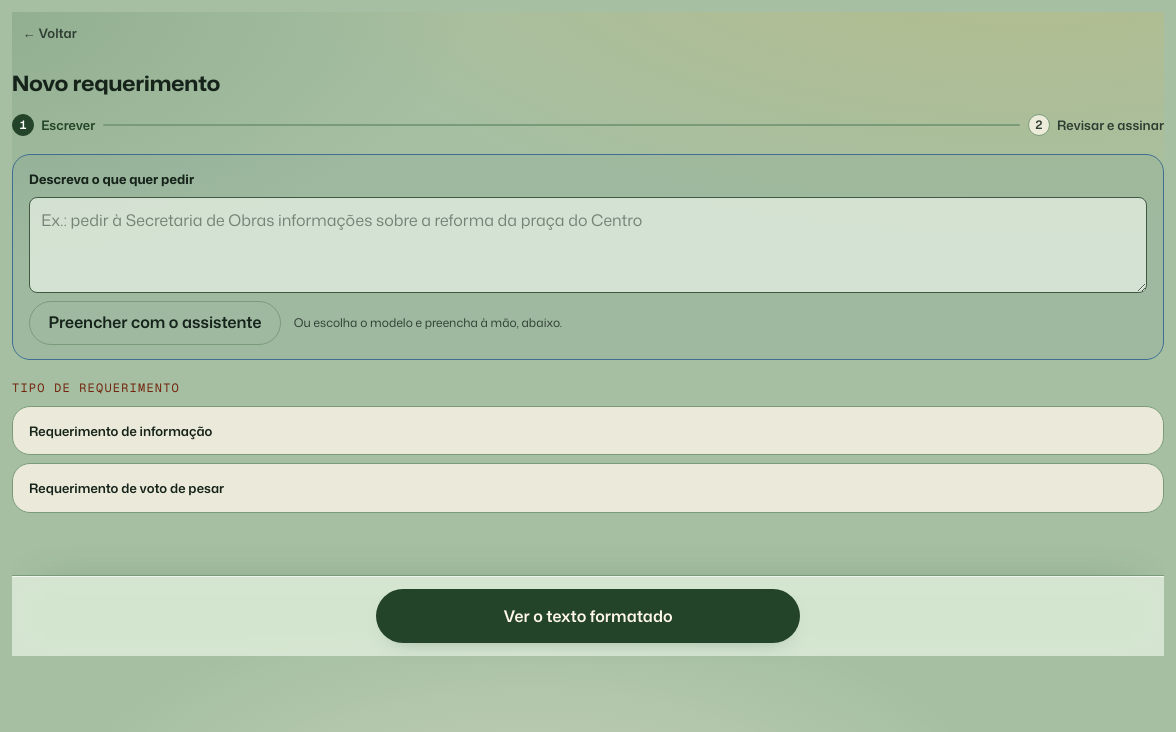
it: Novo requerimento — o copiloto (B.7) › assistente fora: a mensagem manda preencher à mão, nada é tocado
This screenshot has width=1176, height=732.
Step 1. Replace the text in the text box labelled "Descreva o que quer pedir" with "pedir informações da obra" → (588,245), box [29,197,1147,293]
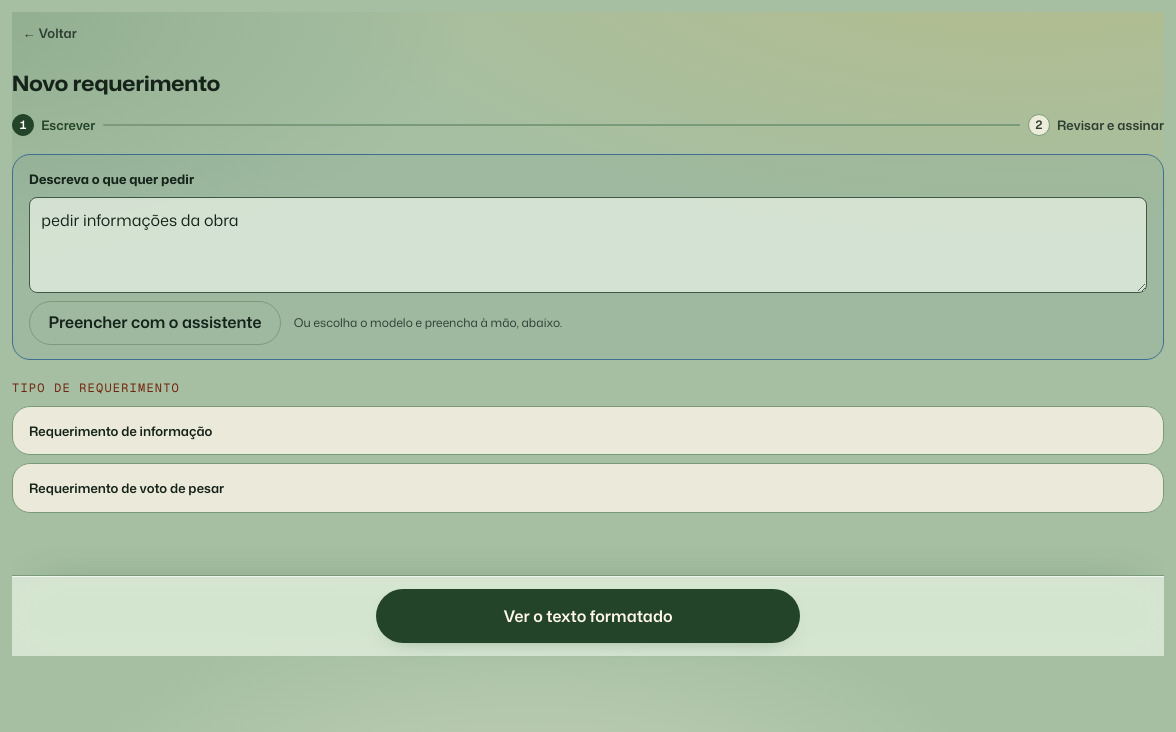
Step 2. Click the button "Preencher com o assistente" → (155,323), box [29,301,281,345]
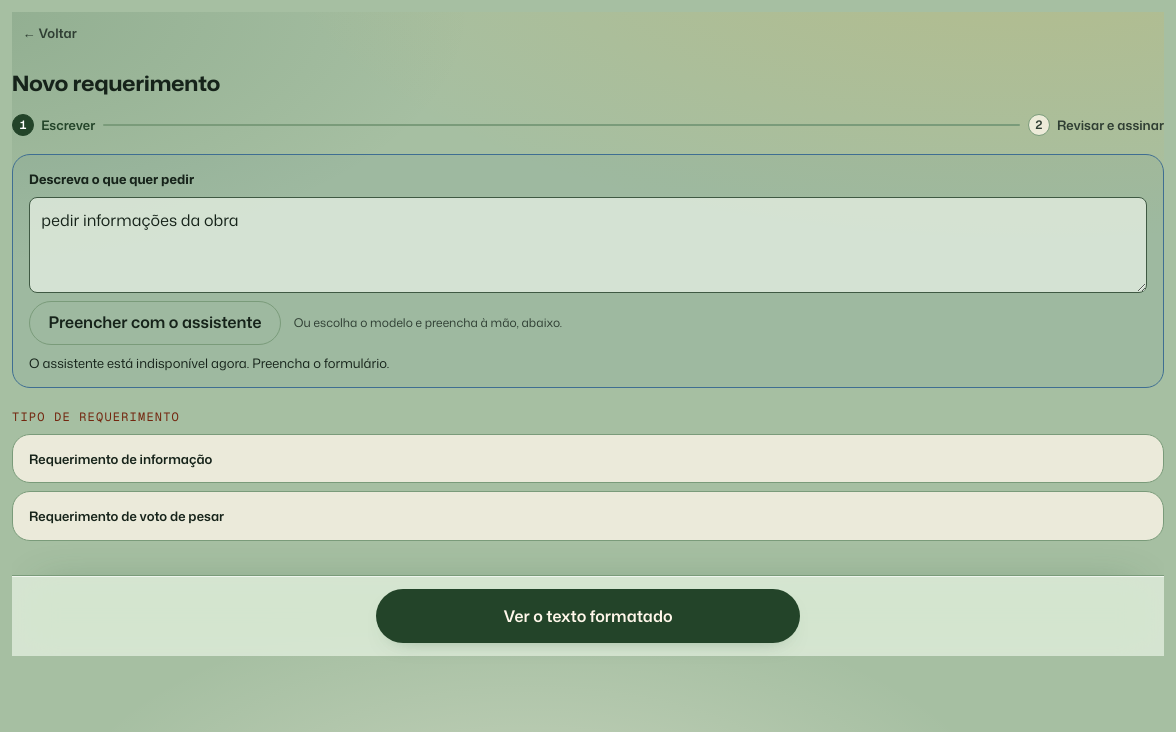
Expected: the radio button labelled "Requerimento de informação" is not checked, [12,434,1164,483]
Now the text "O assistente está indisponível agora. Preencha o formulário." is shown, box [29,354,389,372]
